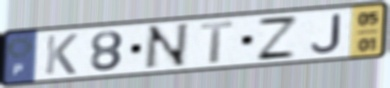8: (88, 29, 126, 73)
J: (308, 12, 343, 55)
K: (43, 32, 81, 77)
N: (140, 21, 191, 72)
T: (199, 19, 236, 65)
Z: (254, 15, 302, 62)
